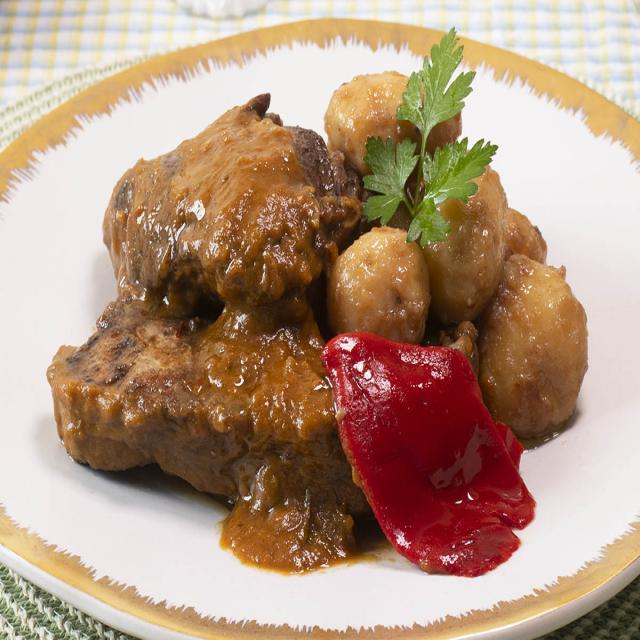carne de res: (40, 287, 375, 563), (103, 90, 376, 317)
